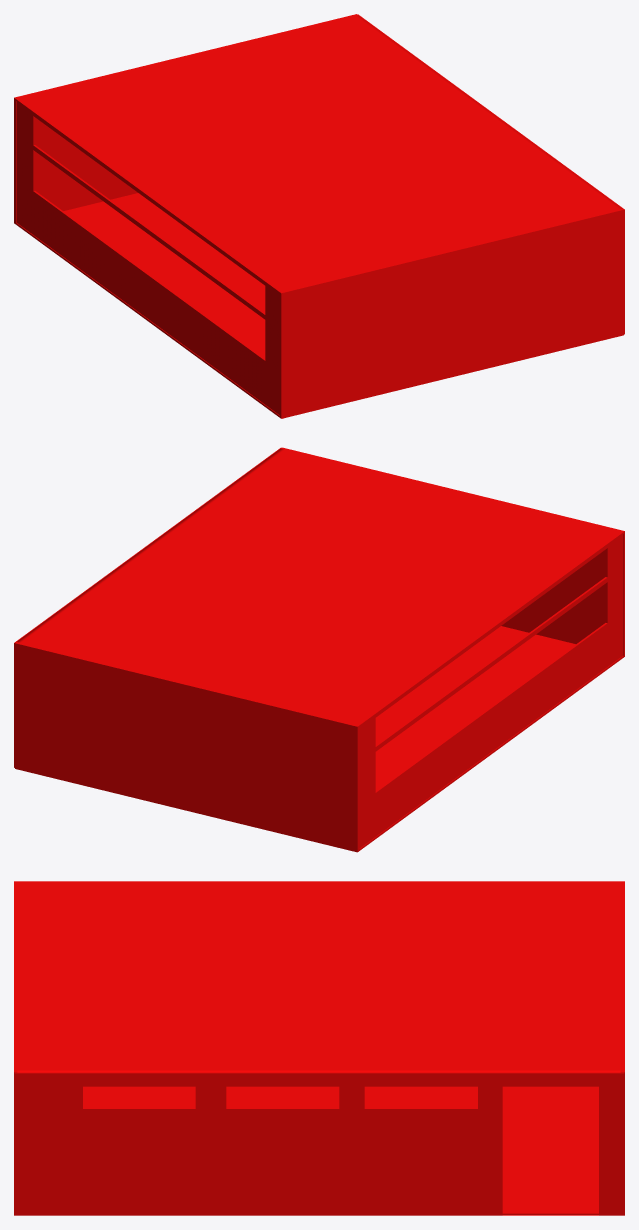
The model's file is classroom.FBX.
3 views of the same model, one above another, from view 1: azimuth 30°, elevation 25°; view 2: azimuth 150°, elevation 25°; view 3: azimuth 270°, elevation 25° (orthographic). The views are drawn at different scales.
Visible parts, largest first — view 1: classroom; view 2: classroom; view 3: classroom.
Part boxes in pixels (box(x1,y1,x2,y2)): classroom: box(14, 14, 624, 418); classroom: box(14, 447, 624, 852); classroom: box(14, 881, 624, 1215).
Size of what is drawn, in the model's own units: 115192 by 40218 by 155134.
